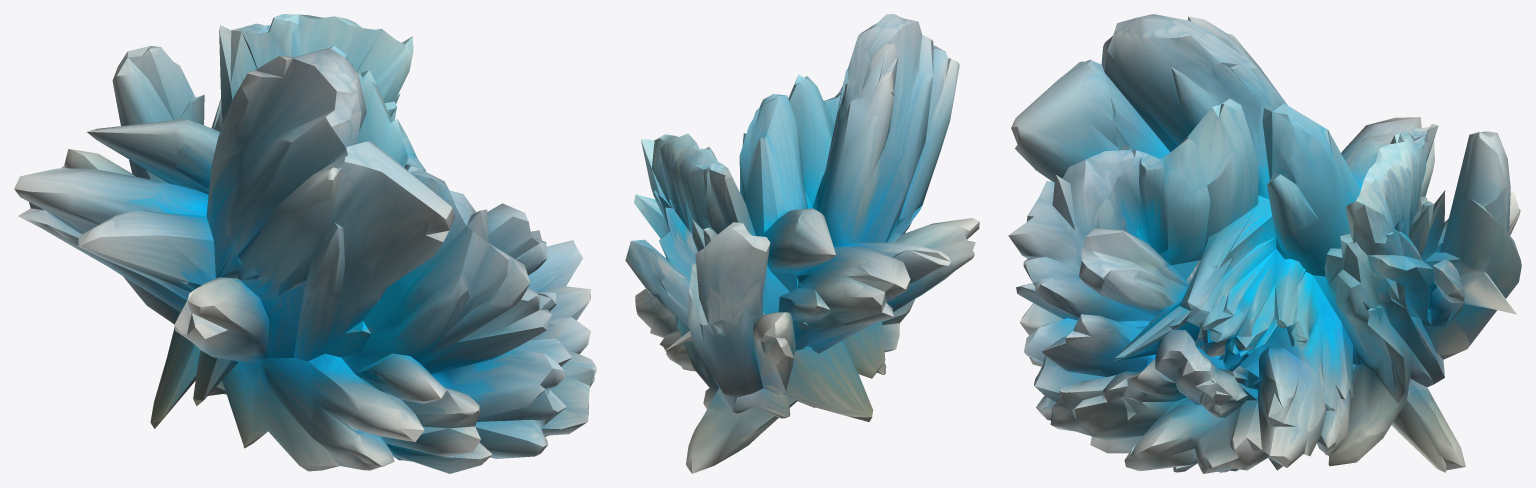
The model's file is cave_ore_01.glb.
3 views of the same model, side by side, from view 1: azimuth 30°, elevation 25°; view 2: azimuth 150°, elevation 25°; view 3: azimuth 270°, elevation 25° (orthographic). The views are drawn at different scales.
Parts seen in each view (by area): view 1: 摩洛哥重晶石; view 2: 摩洛哥重晶石; view 3: 摩洛哥重晶石.
Boxes of the visible parts, x1,y1,x2,y2 form: 摩洛哥重晶石: (14,14,596,473); 摩洛哥重晶石: (625,14,979,473); 摩洛哥重晶石: (1008,14,1521,473).
Size of the model in its own units: 0.5613 by 0.5969 by 0.6611.
1 material, 1 textured.
